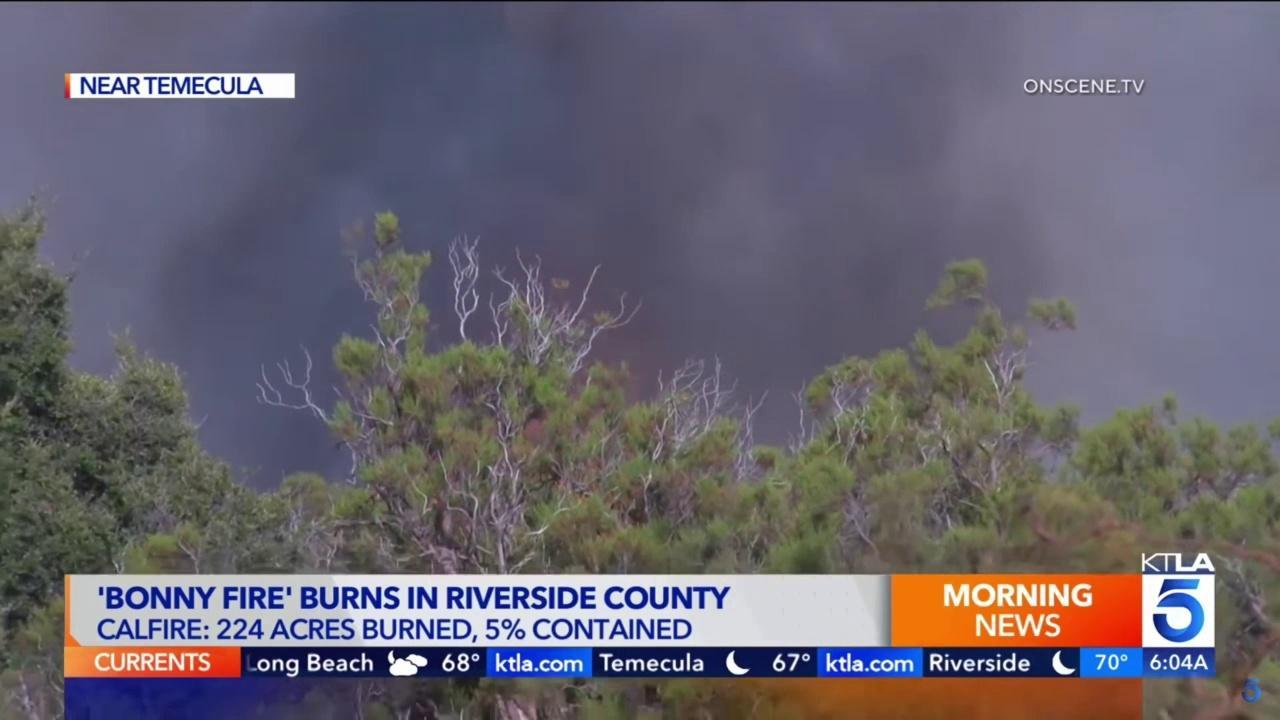smoke: (105, 3, 1079, 506)
